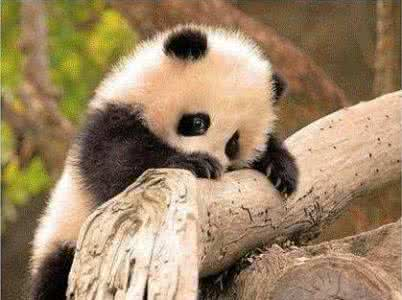panda: (35, 20, 300, 300)
